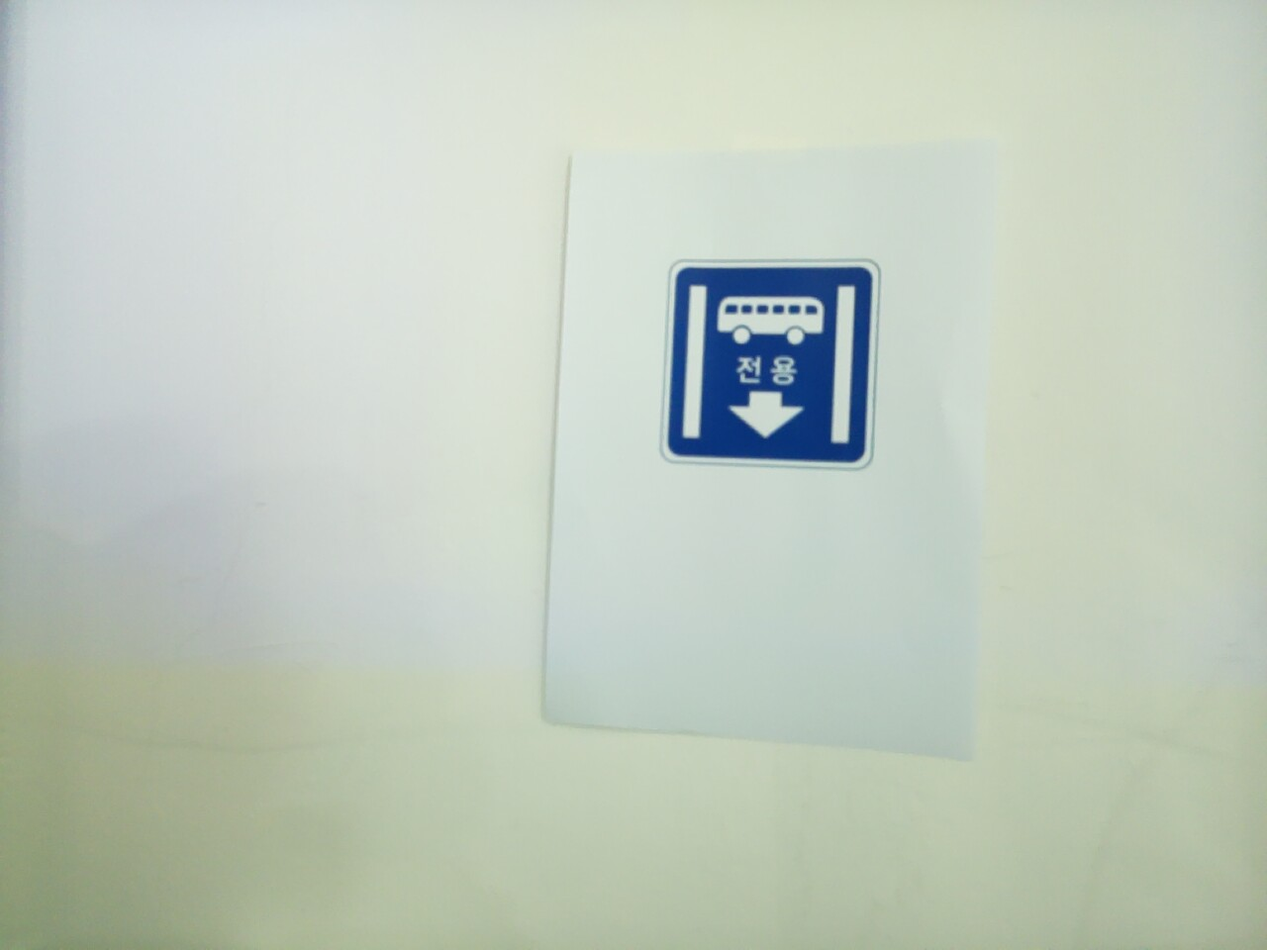bus_only_lane: (659, 259, 881, 471)
